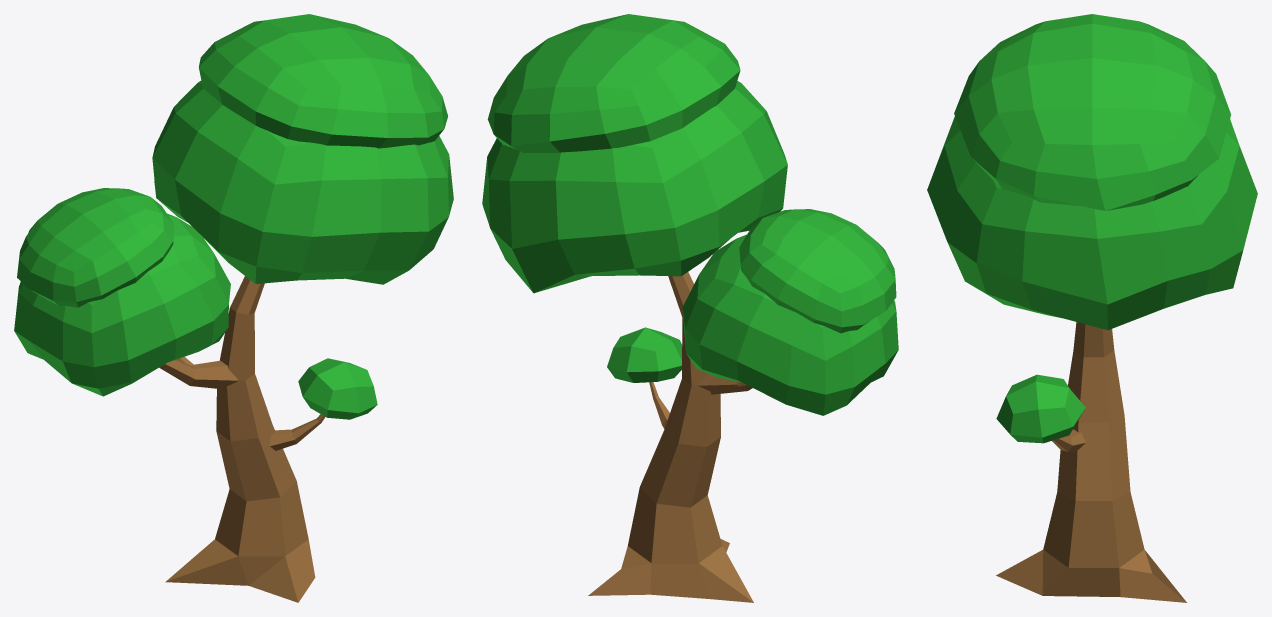
The model's file is tree3.fbx.
3 renders of one model, left to right at view 1: azimuth 30°, elevation 25°; view 2: azimuth 150°, elevation 25°; view 3: azimuth 270°, elevation 25°, orthographic. The views are drawn at different scales.
Visible parts, largest first — view 1: Tree.038; view 2: Tree.038; view 3: Tree.038.
Boxes of the visible parts, x1=… form: Tree.038: x1=14, y1=14, x2=453, y2=602; Tree.038: x1=482, y1=14, x2=898, y2=602; Tree.038: x1=927, y1=14, x2=1257, y2=602.
Size of the model in its own units: 909 by 1166 by 612.
